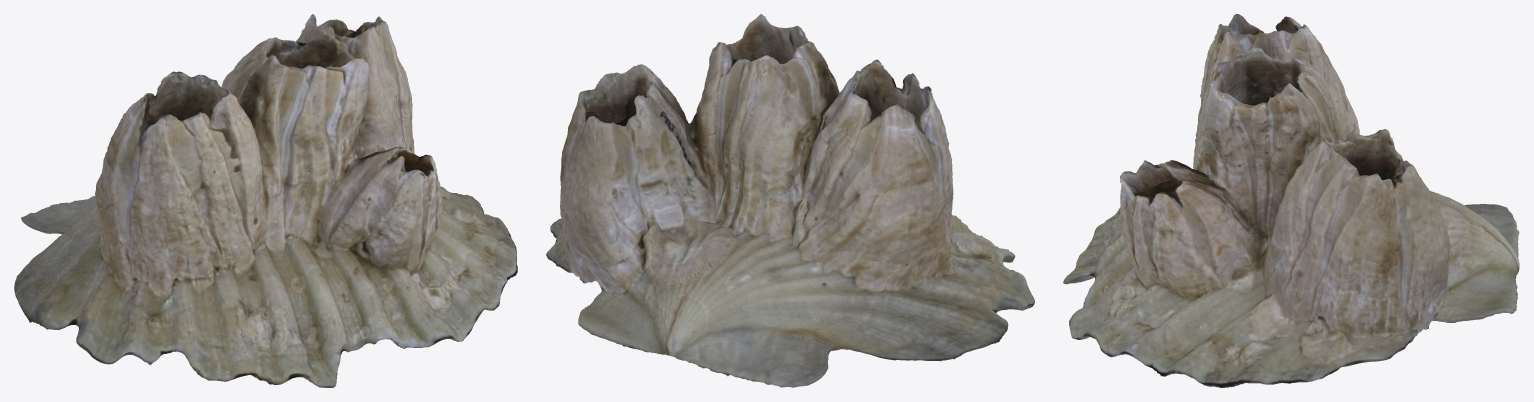
The model's file is barnacles_balanus_concavus_pri_78785.glb.
3 views of the same model, side by side, from view 1: azimuth 30°, elevation 25°; view 2: azimuth 150°, elevation 25°; view 3: azimuth 270°, elevation 25° (orthographic).
Visible parts, largest first — view 1: Object_2, Object_3, Object_4; view 2: Object_2, Object_3, Object_4; view 3: Object_3, Object_4, Object_2.
Part boxes in pixels (<box>): Object_2: <box>14,30,422,387</box>; Object_3: <box>36,14,517,348</box>; Object_4: <box>25,14,516,384</box>; Object_2: <box>578,42,1034,387</box>; Object_3: <box>560,14,842,383</box>; Object_4: <box>546,25,926,385</box>; Object_3: <box>1069,68,1519,387</box>; Object_4: <box>1064,16,1519,387</box>; Object_2: <box>1063,14,1519,322</box>.
Bounding box in the file's own units: 2.85 × 1.53 × 2.49.
Materials: 1 (1 with a texture image).
